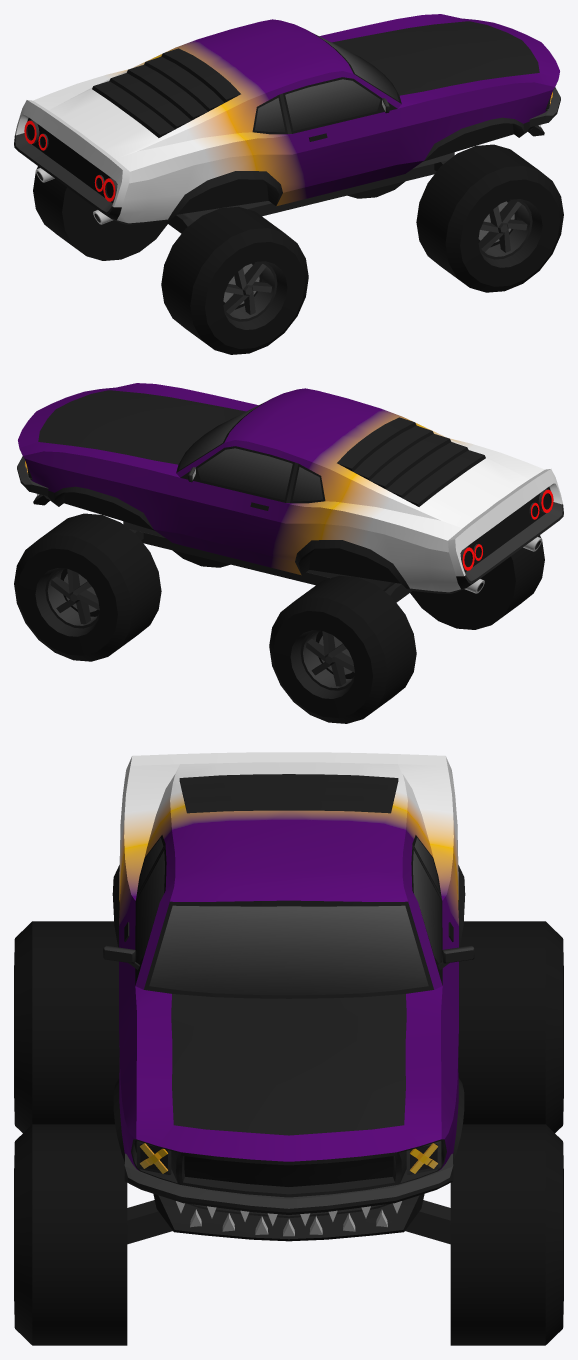
File: Car_003.glb
The picture shows the model from 3 angles, top to bottom: view 1: azimuth 30°, elevation 25°; view 2: azimuth 150°, elevation 25°; view 3: azimuth 270°, elevation 25°; orthographic projection. The views are drawn at different scales.
Parts seen in each view (by area): view 1: Car_003, wheel_1_Car_003_Wheel_1R, wheel_3_Car_003_Wheel_2R, wheel_2_Car_003_Wheel_2L; view 2: Car_003, wheel_0_Car_003_Wheel_1L, wheel_2_Car_003_Wheel_2L, wheel_3_Car_003_Wheel_2R; view 3: Car_003, wheel_0_Car_003_Wheel_1L, wheel_1_Car_003_Wheel_1R, wheel_2_Car_003_Wheel_2L, wheel_3_Car_003_Wheel_2R.
Part boxes in pixels (box(x1,y1,x2,y2)): Car_003: box(14, 14, 560, 233); wheel_1_Car_003_Wheel_1R: box(416, 144, 563, 292); wheel_3_Car_003_Wheel_2R: box(161, 206, 308, 354); wheel_2_Car_003_Wheel_2L: box(33, 166, 167, 260); Car_003: box(17, 383, 563, 602); wheel_0_Car_003_Wheel_1L: box(14, 513, 161, 661); wheel_2_Car_003_Wheel_2L: box(269, 575, 416, 723); wheel_3_Car_003_Wheel_2R: box(410, 535, 544, 629); Car_003: box(103, 752, 474, 1244); wheel_0_Car_003_Wheel_1L: box(450, 1124, 563, 1345); wheel_1_Car_003_Wheel_1R: box(14, 1124, 127, 1345); wheel_2_Car_003_Wheel_2L: box(458, 921, 563, 1132); wheel_3_Car_003_Wheel_2R: box(14, 921, 119, 1132).
Bounding box in the file's own units: 5.42 × 2.39 × 3.28.
Materials: 2 (2 with a texture image).
